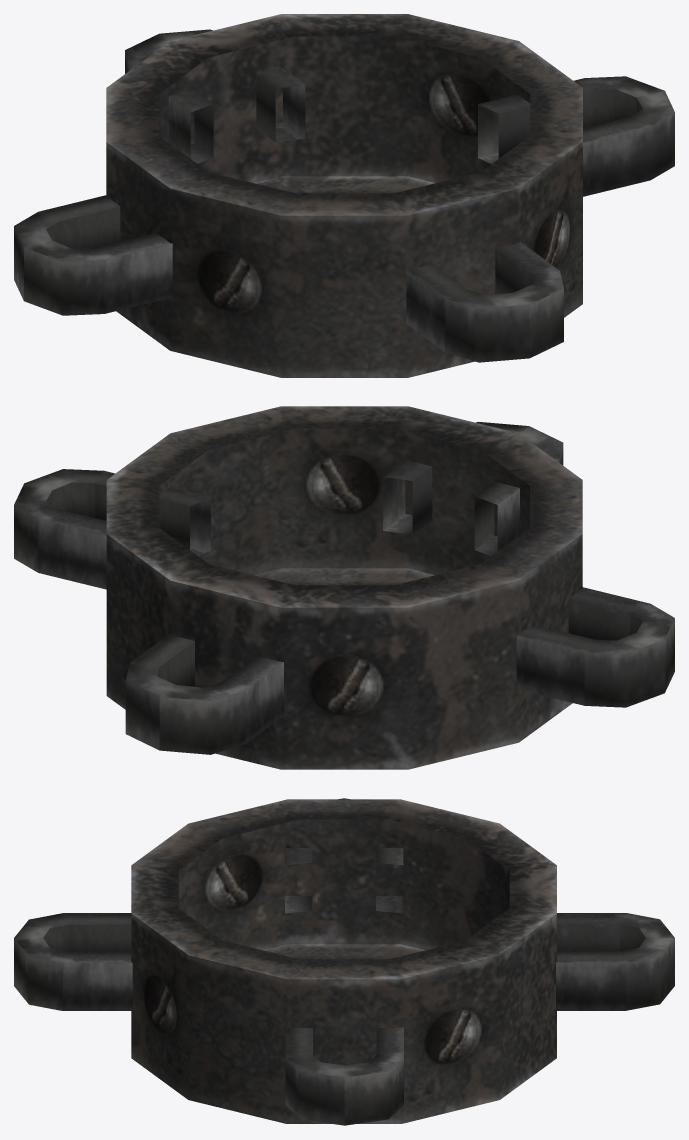
File: Mast Brace 4.fbx
3 renders of one model, top to bottom at view 1: azimuth 30°, elevation 25°; view 2: azimuth 150°, elevation 25°; view 3: azimuth 270°, elevation 25°, orthographic. The views are drawn at different scales.
Visible parts, largest first — view 1: mast brace002; view 2: mast brace002; view 3: mast brace002.
Part boxes in pixels (bbox=[...]): mast brace002: bbox=[14, 14, 674, 377]; mast brace002: bbox=[14, 406, 674, 769]; mast brace002: bbox=[14, 798, 674, 1125].
Bounding box in the file's own units: 63.51 × 63.51 × 15.36.
1 material, 1 textured.
